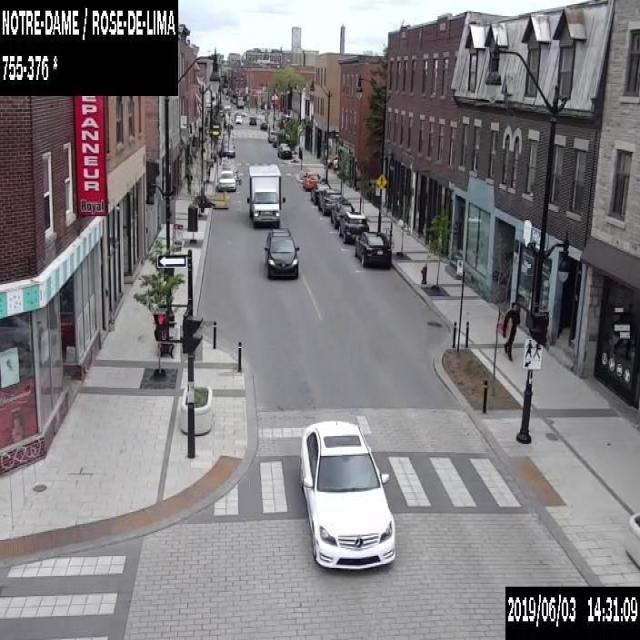pedestrian: (496, 301, 520, 362)
vehicle: (300, 418, 395, 570), (246, 164, 285, 227), (264, 227, 298, 278), (354, 230, 391, 266), (338, 211, 368, 242), (329, 200, 354, 228), (318, 187, 342, 214), (217, 168, 236, 190), (310, 182, 329, 204), (302, 169, 320, 191), (278, 145, 291, 159), (276, 143, 290, 156), (327, 154, 337, 169), (222, 146, 234, 156), (267, 130, 276, 142), (248, 115, 256, 124), (236, 96, 242, 108), (235, 110, 246, 116), (225, 119, 232, 128), (234, 114, 241, 123), (260, 121, 266, 129), (223, 103, 230, 108)
